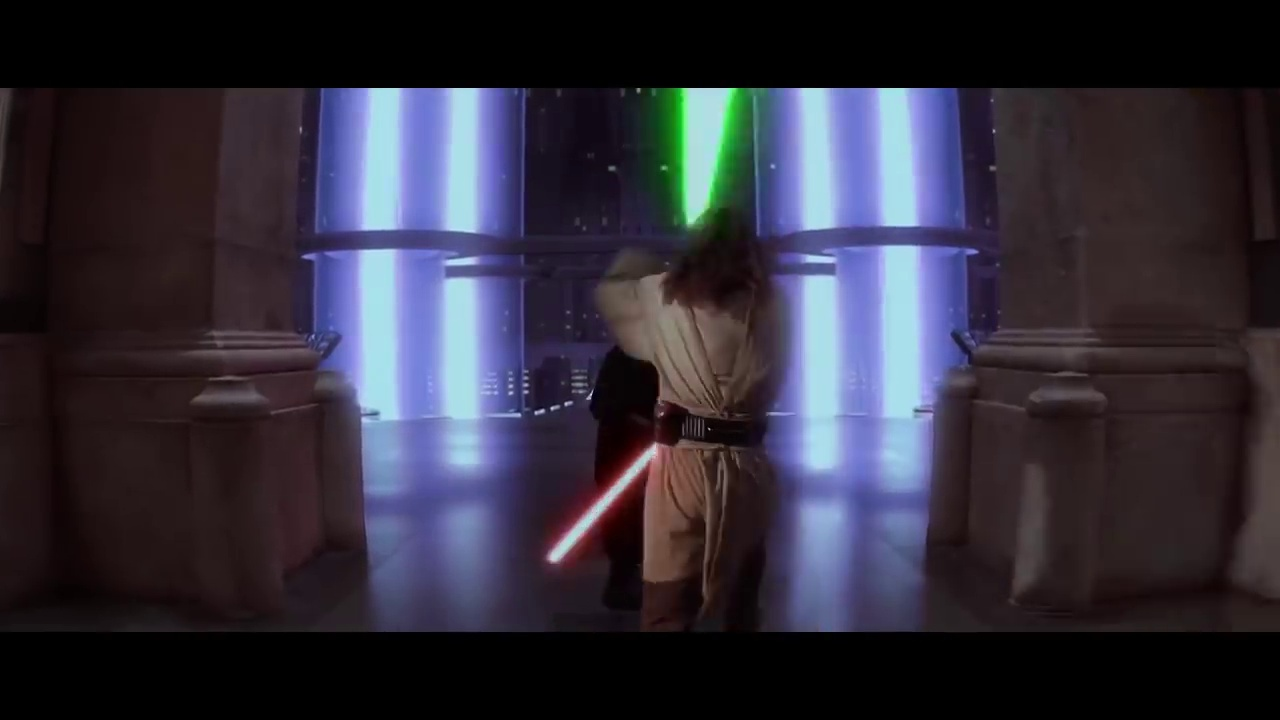lightsaber: (545, 445, 654, 570), (677, 88, 734, 231)
